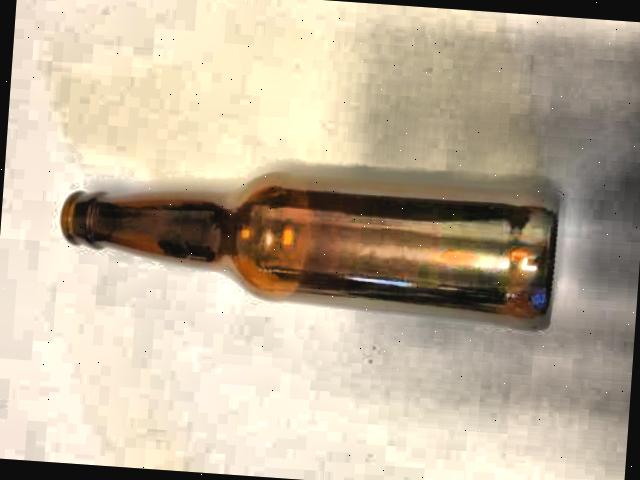Bottles: (32, 131, 581, 356)
